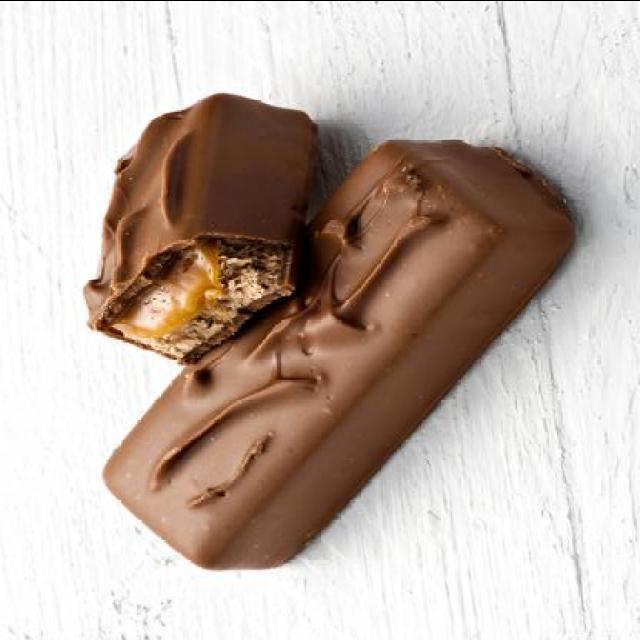Chocolate bar packaged: (100, 136, 582, 572), (75, 87, 328, 367)
